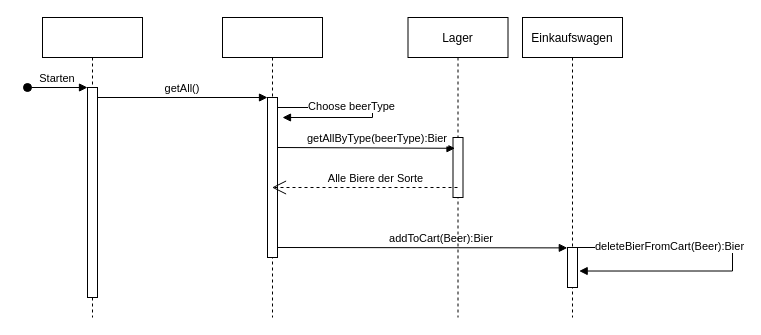
Image size: 761x335. Some labels were removed from this diagram. Each missing label, with the box of its shape:
Kunde: (42, 16, 142, 318)
Laden: (222, 16, 322, 318)
